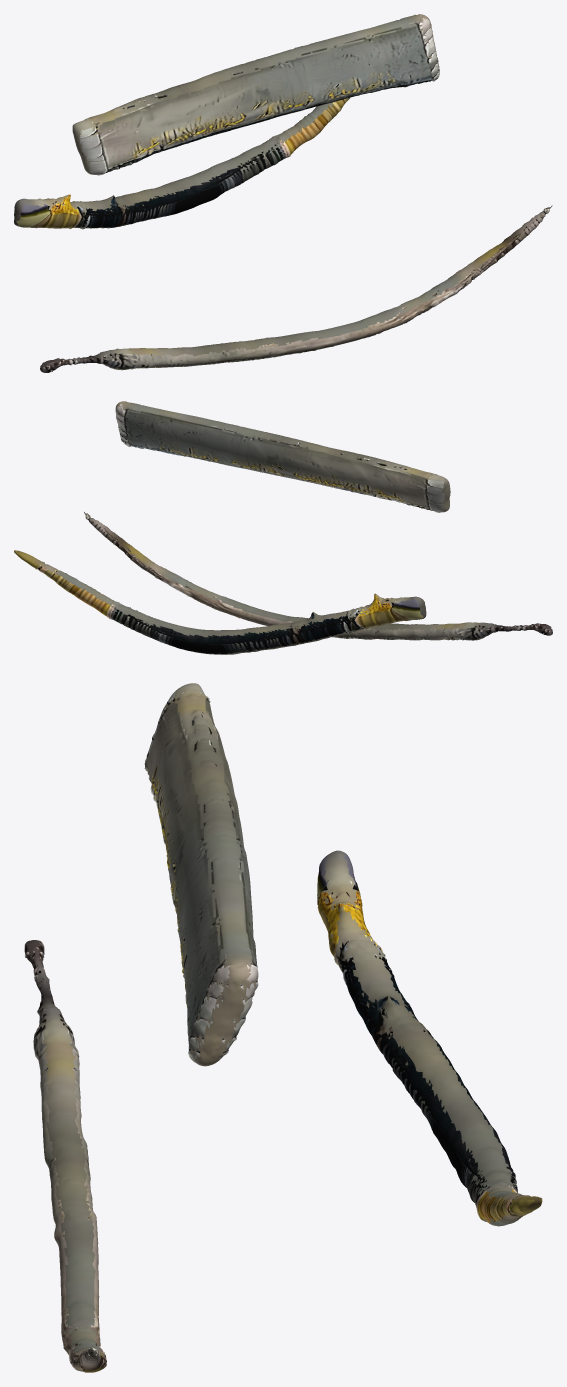
The model's file is kfl-2126.glb.
The picture shows the model from 3 angles, top to bottom: view 1: azimuth 30°, elevation 25°; view 2: azimuth 150°, elevation 25°; view 3: azimuth 270°, elevation 25°; orthographic projection. The views are drawn at different scales.
Parts seen in each view (by area): view 1: kfl-2126; view 2: kfl-2126; view 3: kfl-2126.
Boxes of the visible parts, left/top/right/bottom form: kfl-2126: left=14, top=14, right=552, bottom=372; kfl-2126: left=14, top=401, right=552, bottom=654; kfl-2126: left=24, top=683, right=542, bottom=1372.
Size of the model in its own units: 0.9853 by 0.4681 by 0.4855.
4 materials, 4 textured.
